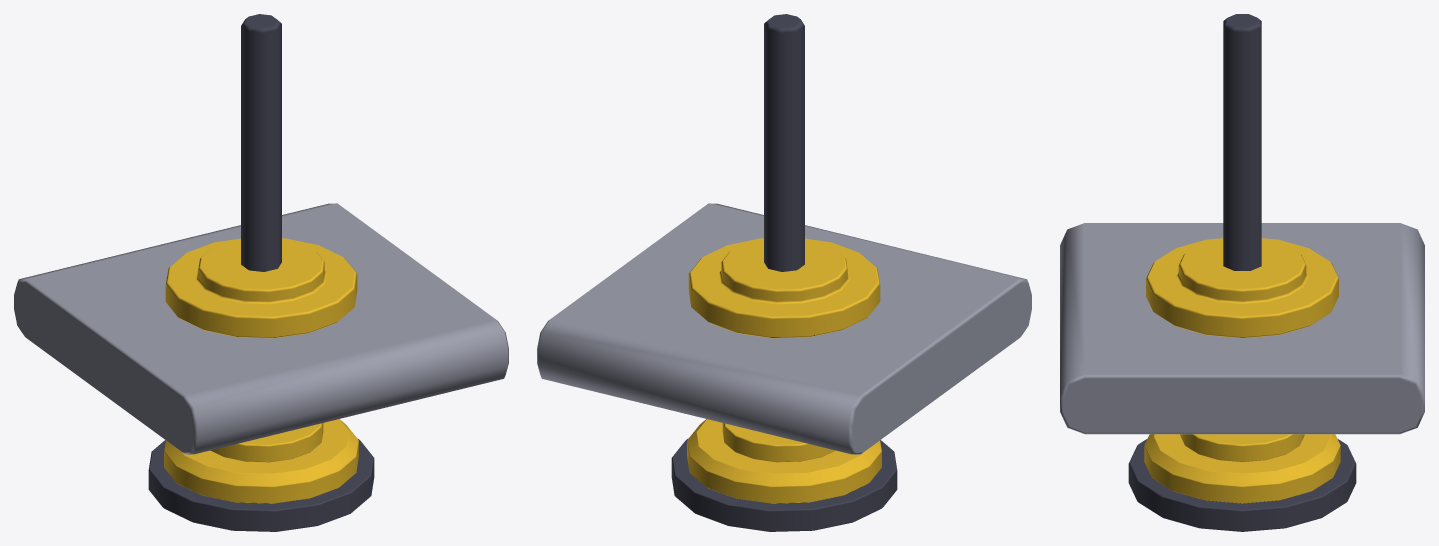
Rendered from press.fbx.
3 views of the same model, side by side, from view 1: azimuth 30°, elevation 25°; view 2: azimuth 150°, elevation 25°; view 3: azimuth 270°, elevation 25° (orthographic).
Parts seen in each view (by area): view 1: pressUp, press_Low; view 2: pressUp, press_Low; view 3: pressUp, press_Low.
Part boxes in pixels (<box>): pressUp: <box>14,203,508,454</box>; press_Low: <box>148,14,374,531</box>; pressUp: <box>537,203,1031,454</box>; press_Low: <box>671,14,897,531</box>; pressUp: <box>1060,223,1424,434</box>; press_Low: <box>1128,14,1356,531</box>.
Bounding box in the file's own units: 100 × 140 × 100.
